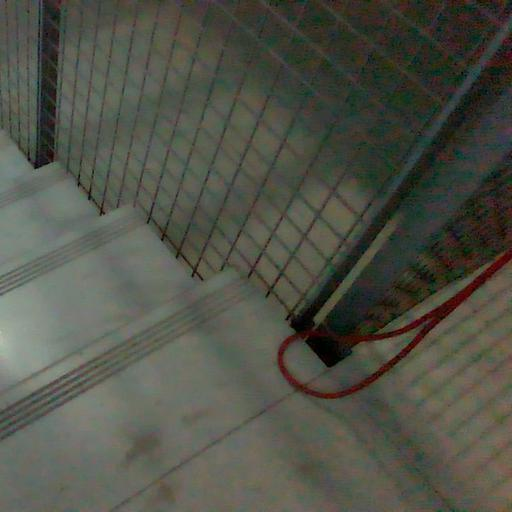stairs: (0, 134, 446, 511)
